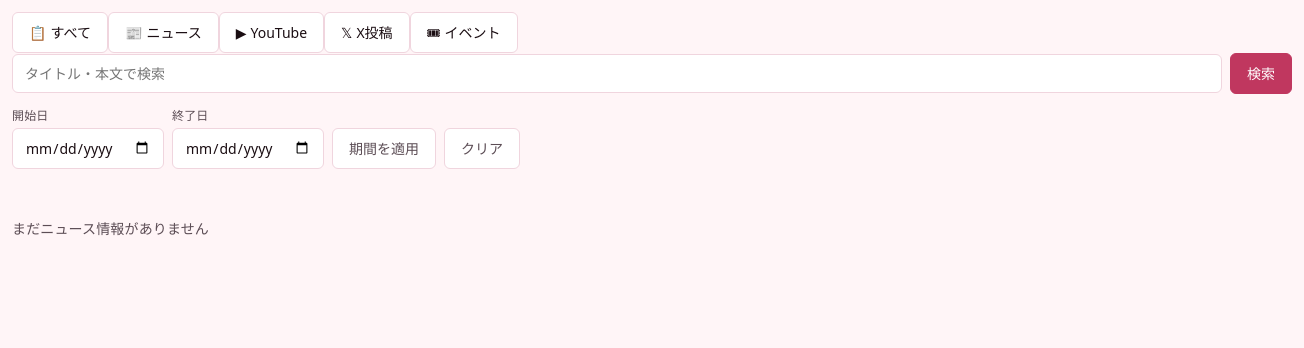
NewsFeedList › クリア後はクエリなしで getNews が呼ばれ全件一覧に戻る
The width and height of the screenshot is (1304, 348).
Type "テスト" into the search field at (617, 74), box [12,54,1222,93]
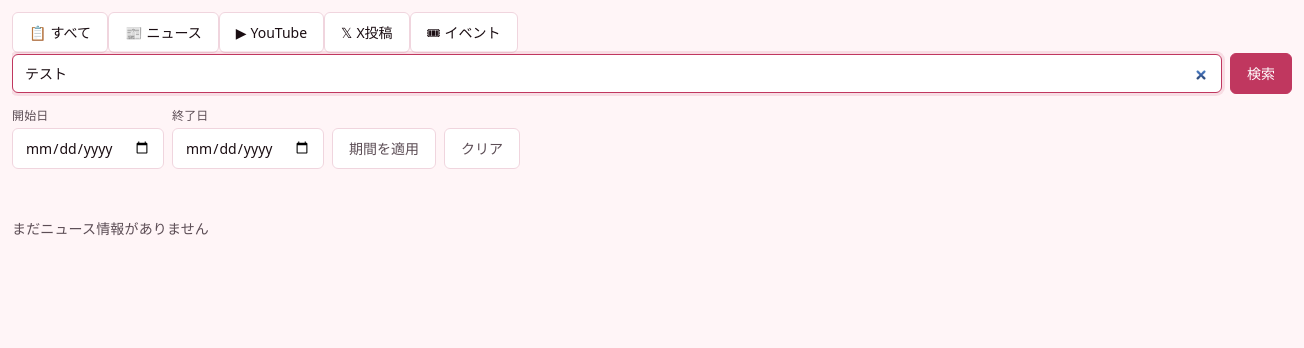
Click the button "検索" at (1261, 74), box [1230,53,1292,94]
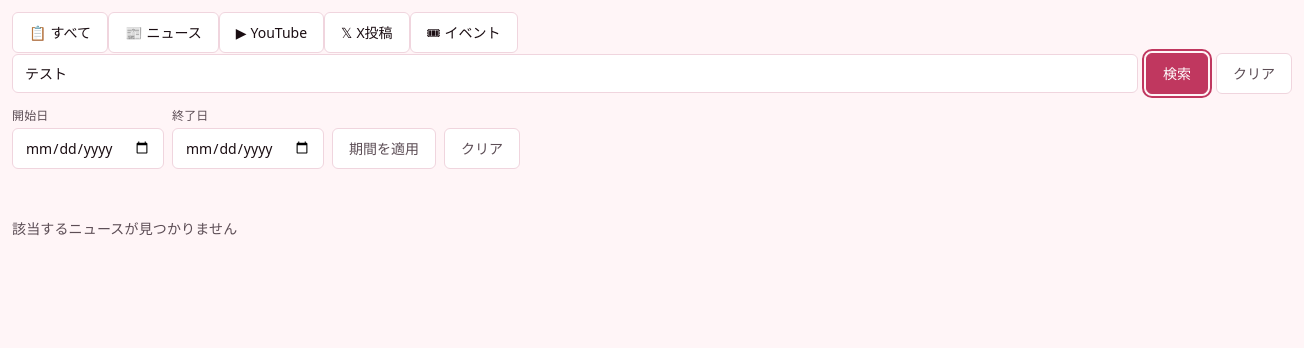
Now the text "該当するニュースが見つかりません" is shown, box [12,219,237,238]
Click the button with aria-label "検索をクリア" at (1254, 74), box [1216,53,1292,94]
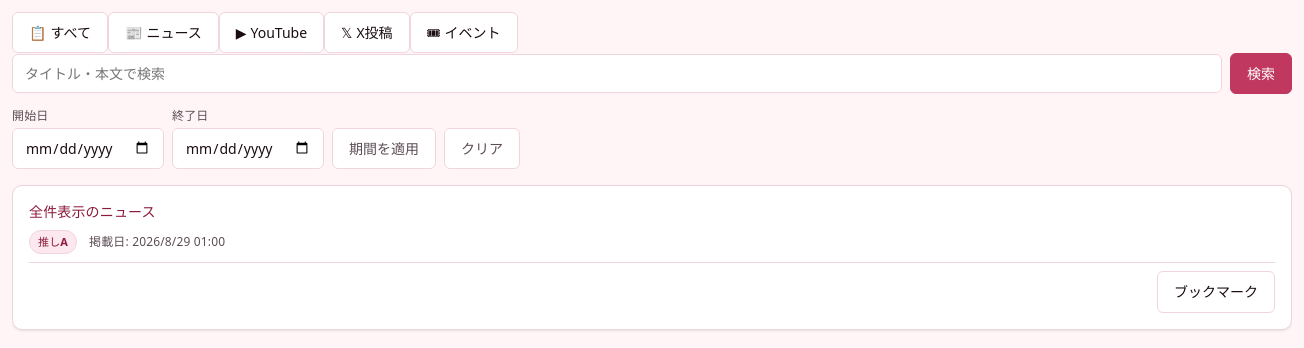
Now the link "全件表示のニュース" is shown, box [29,202,156,221]
